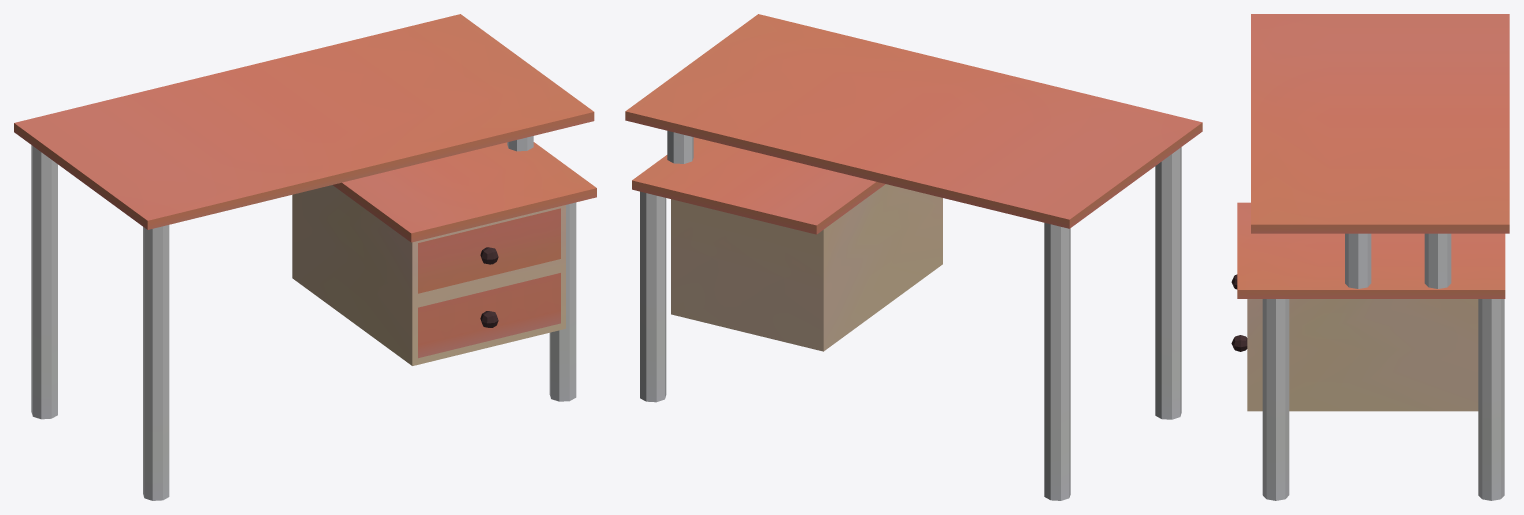
The model's file is igrovoystol.fbx.
3 views of the same model, side by side, from view 1: azimuth 30°, elevation 25°; view 2: azimuth 150°, elevation 25°; view 3: azimuth 270°, elevation 25° (orthographic). The views are drawn at different scales.
Parts seen in each view (by area): view 1: Cube.004; view 2: Cube.004; view 3: Cube.004.
Part boxes in pixels (bbox=[...]): Cube.004: bbox=[14, 14, 596, 500]; Cube.004: bbox=[625, 14, 1202, 500]; Cube.004: bbox=[1231, 14, 1509, 500].
Size of the model in its own units: 487 by 301 by 271.
